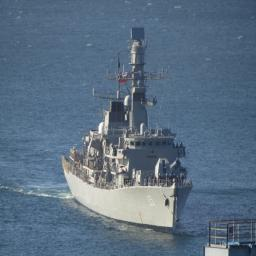Fragata: (60, 14, 193, 238)
